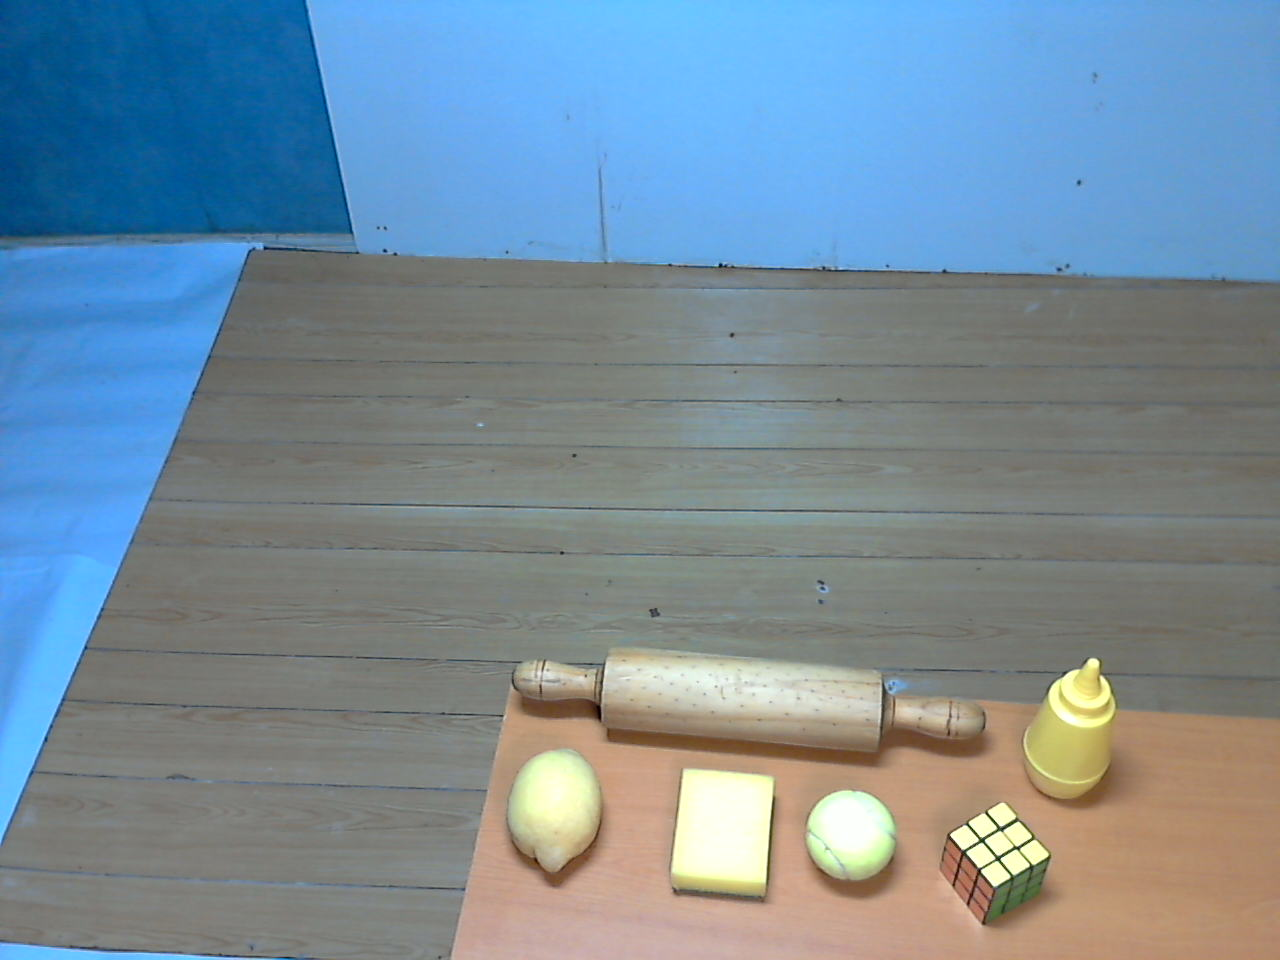cubix: (926, 793, 1061, 932)
esponja: (651, 756, 804, 919)
limon: (494, 739, 613, 901)
mostaza: (1007, 639, 1133, 822)
pelota: (789, 778, 910, 899)
uslero: (498, 628, 1002, 779)
